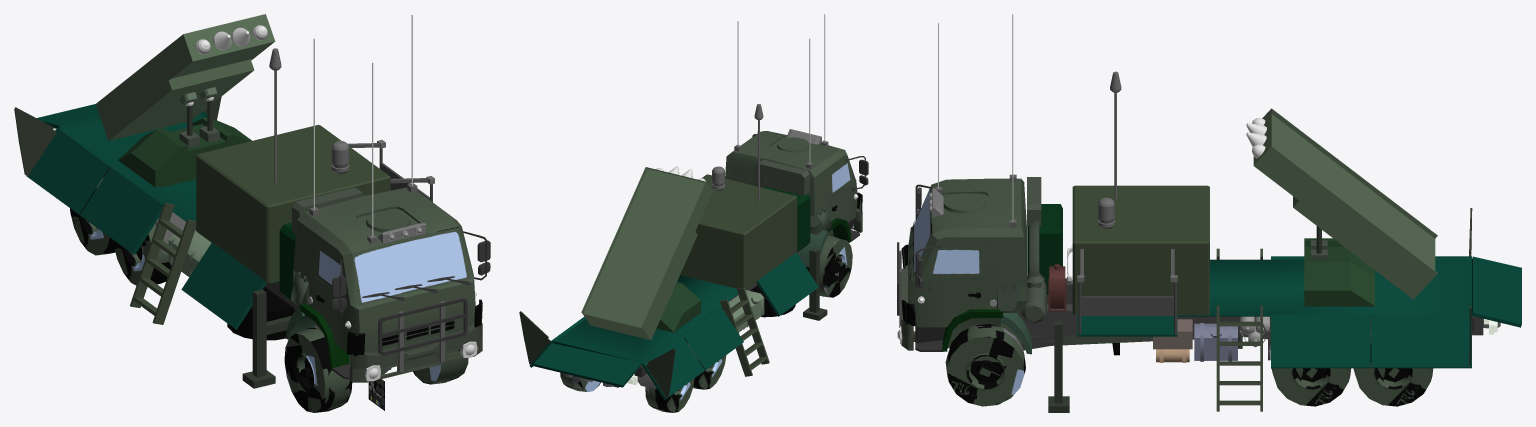
File: cornerboard-not-deployed(green).fbx
3 renders of one model, left to right at view 1: azimuth 30°, elevation 25°; view 2: azimuth 150°, elevation 25°; view 3: azimuth 270°, elevation 25°, orthographic. The views are drawn at different scales.
Visible parts, largest first — view 1: Куб.131, Куб.136, Cube, Cube.002, Цилиндр.051, Cube.001, Cube.008, Куб.096, Cube.016, Cube.011, Cube.007, Цилиндр.053 (+16 smaller); view 2: Cube.002, Куб.136, Cube, Куб.131, Цилиндр.051, Cube.008, Цилиндр.059, Цилиндр.001, Cube.001, Cube.015, Cube.011, Cube.010 (+6 smaller); view 3: Куб.136, Cube, Куб.131, Cube.002, Цилиндр.051, Cube.001, Цилиндр.001, Цилиндр.053, Куб.118, Цилиндр.059, Cube.018, Cube.009 (+11 smaller).
Part boxes in pixels (x1,y1,x2,y2): Куб.131: (293,187,482,369); Куб.136: (26,104,279,329); Cube: (196,124,390,283); Cube.002: (95,14,275,140); Цилиндр.051: (284,327,468,412); Cube.001: (118,117,251,187); Cube.008: (130,203,196,324); Куб.096: (349,323,482,382); Cube.016: (242,289,291,388); Cube.011: (14,107,56,175); Cube.007: (378,297,467,355); Цилиндр.053: (113,223,171,285); Cube.002: (581,167,712,339); Куб.136: (529,252,818,399); Cube: (680,174,797,289); Куб.131: (725,131,862,252); Цилиндр.051: (805,235,852,297); Cube.008: (720,287,769,376); Цилиндр.059: (754,159,809,195); Цилиндр.001: (560,372,694,412); Cube.001: (656,282,700,332); Cube.015: (765,187,810,251); Cube.011: (645,348,675,397); Cube.010: (519,311,550,364); Куб.136: (1077,256,1521,368); Cube: (1072,185,1209,315); Куб.131: (901,178,1026,348); Cube.002: (1253,108,1437,299); Цилиндр.051: (945,324,1025,406); Cube.001: (1304,238,1374,306); Цилиндр.001: (1353,331,1433,406); Цилиндр.053: (1271,368,1351,406); Куб.118: (1018,278,1483,350); Цилиндр.059: (1021,177,1046,323); Cube.018: (1078,296,1173,315); Cube.009: (1216,305,1262,411).
Size of the model in its own units: 750 by 1240 by 2012.
66 materials, 5 textured.
